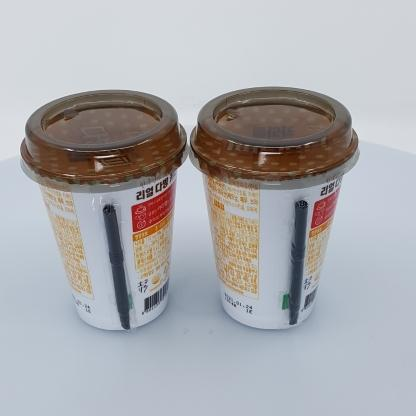---------: (189, 85, 359, 329), (20, 89, 187, 331)
